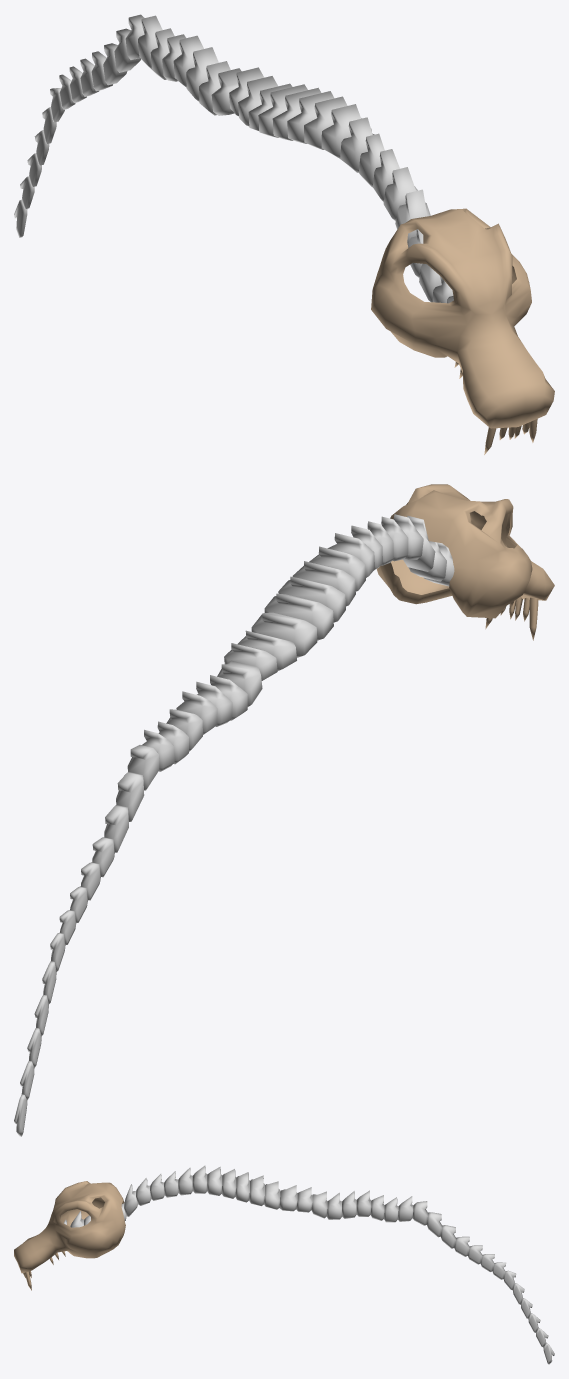
Rendered from Kosci2.fbx.
The picture shows the model from 3 angles, top to bottom: view 1: azimuth 30°, elevation 25°; view 2: azimuth 150°, elevation 25°; view 3: azimuth 270°, elevation 25°; orthographic projection. The views are drawn at different scales.
Visible parts, largest first — view 1: Cube.001; view 2: Cube.001; view 3: Cube.001.
Boxes of the visible parts, bbox=[...] form: Cube.001: bbox=[14, 14, 554, 454]; Cube.001: bbox=[14, 484, 554, 1136]; Cube.001: bbox=[14, 1165, 554, 1364].
Size of the model in its own units: 390 by 933 by 2345.
